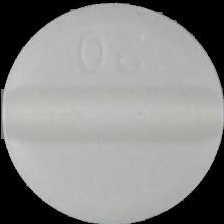68151-0314: (0, 0, 224, 224)
